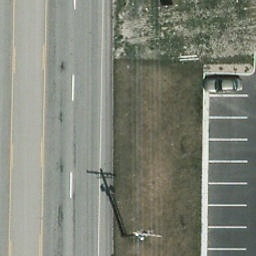car: (203, 78, 247, 91)
